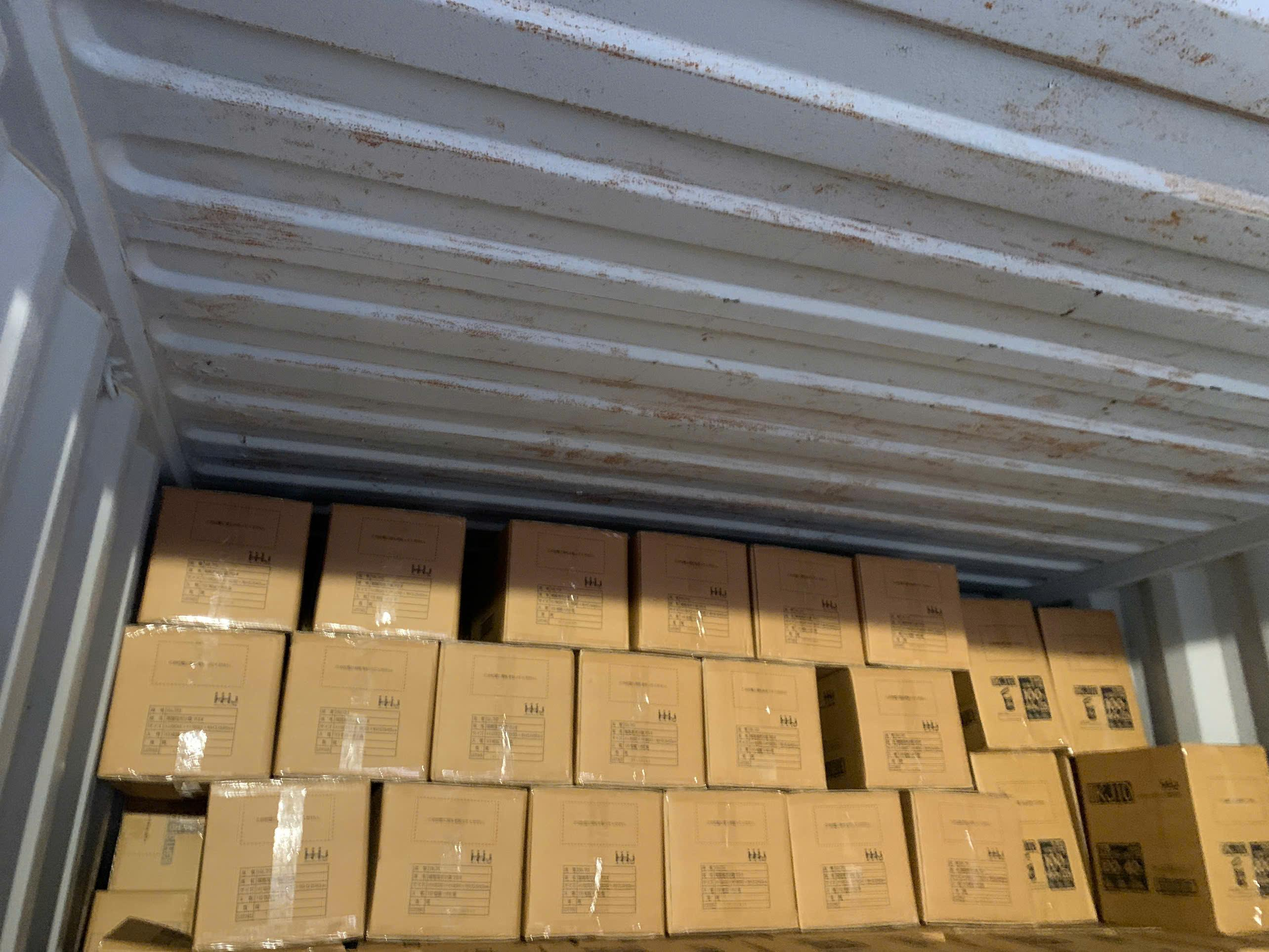carton: (1068, 742, 1269, 941), (96, 627, 287, 791), (194, 781, 369, 951), (363, 780, 519, 944), (271, 634, 436, 781), (966, 747, 1101, 926), (137, 489, 310, 628), (521, 785, 663, 940), (425, 642, 576, 785), (310, 503, 466, 636), (478, 516, 635, 648), (578, 650, 707, 789), (664, 789, 783, 939), (701, 656, 827, 793), (788, 791, 906, 937), (1035, 608, 1152, 750), (953, 602, 1065, 748), (837, 668, 965, 794), (635, 531, 757, 657), (916, 789, 1027, 927), (850, 554, 957, 669), (753, 546, 854, 664), (103, 810, 206, 893), (80, 890, 199, 952), (821, 928, 972, 950)
